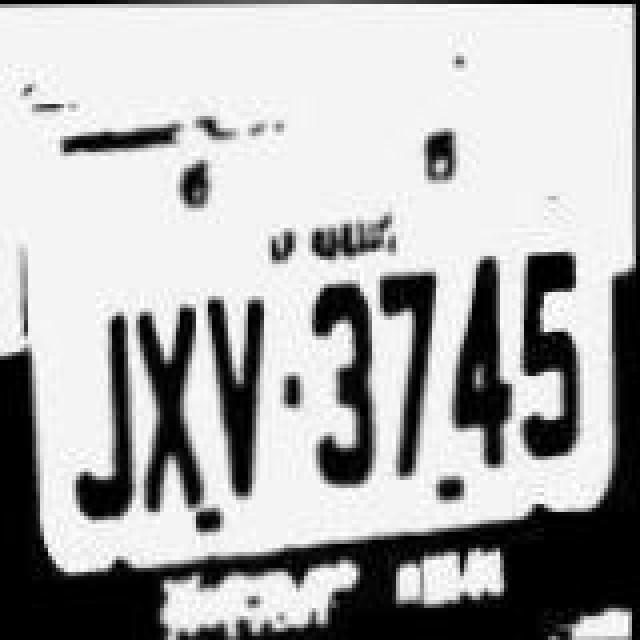3: (302, 284, 382, 504)
4: (436, 248, 516, 464)
5: (514, 242, 598, 462)
7: (370, 264, 446, 480)
J: (64, 306, 140, 534)
V: (202, 284, 274, 508)
X: (136, 276, 212, 516)
